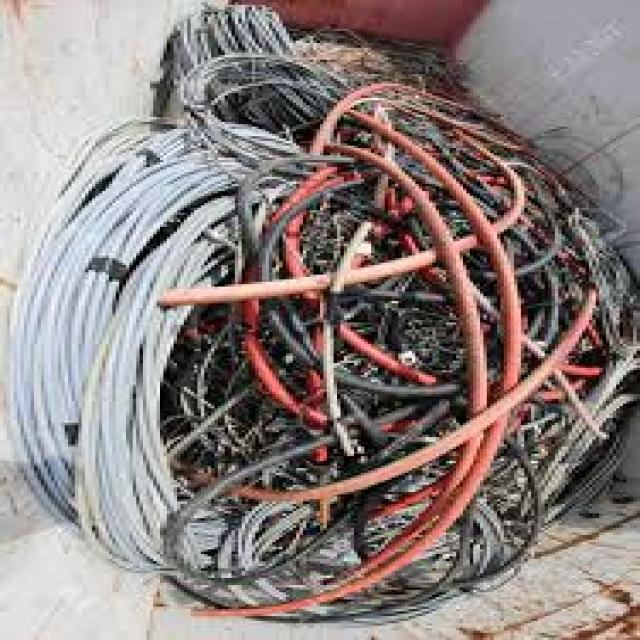Hazard: (12, 31, 640, 588)
